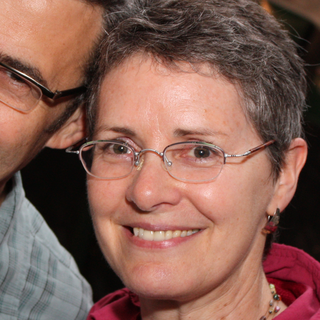eye: (175, 140, 223, 164), (100, 139, 141, 163)
